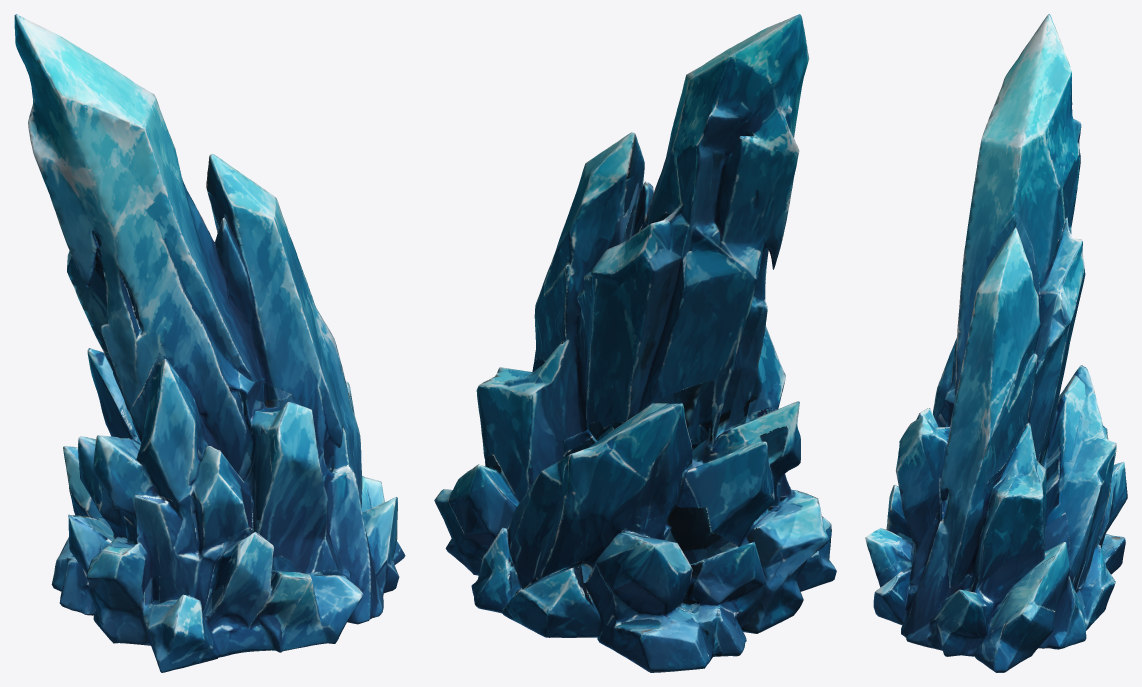
File: IceShard_Spike_A.fbx
3 renders of one model, left to right at view 1: azimuth 30°, elevation 25°; view 2: azimuth 150°, elevation 25°; view 3: azimuth 270°, elevation 25°, orthographic. The views are drawn at different scales.
Visible parts, largest first — view 1: texture_mapping; view 2: texture_mapping; view 3: texture_mapping.
Part boxes in pixels (x1,y1,x2,y2): texture_mapping: (14, 14, 405, 672); texture_mapping: (434, 14, 836, 672); texture_mapping: (865, 14, 1127, 672).
Bounding box in the file's own units: 0.6111 × 0.4593 × 0.9899.
Materials: 1 (1 with a texture image).
